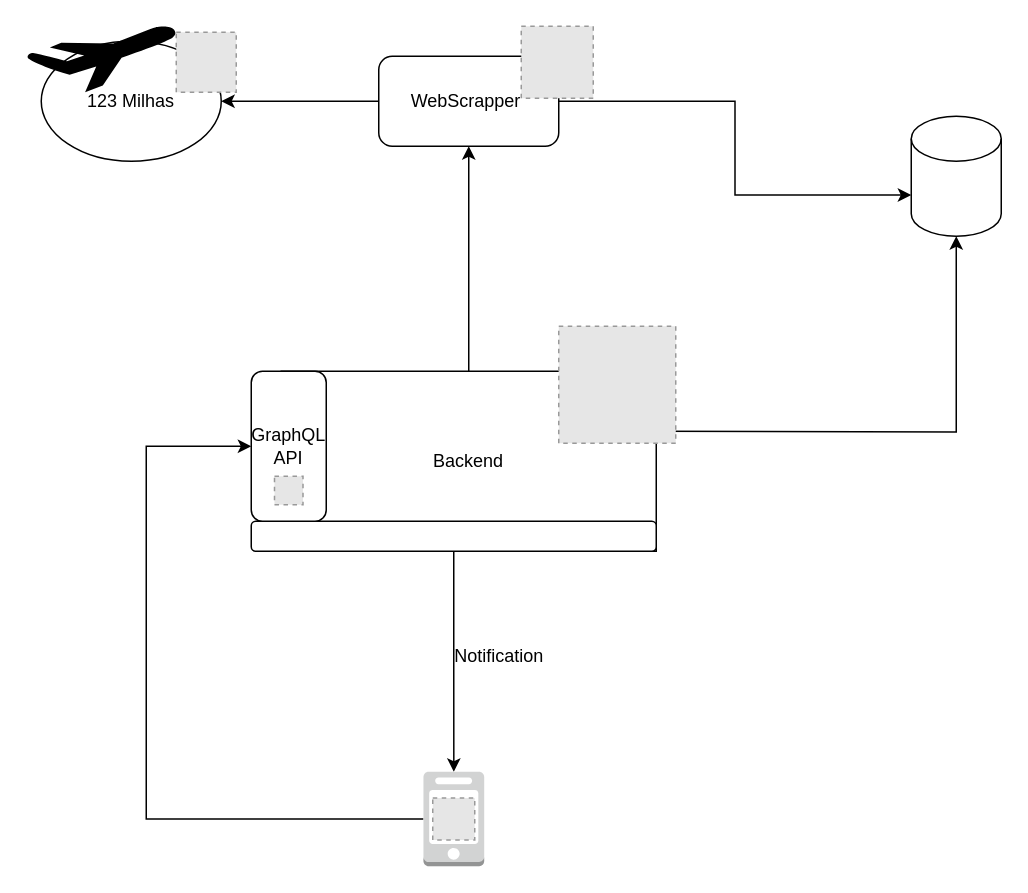
Some shapes in this 1028 by 893 pixel diagram are drawn without their labels. Grey dashed boxes stand in for pictures. The centre of each missing label's shape, as x and y in pixels:
SqlServer: (955,175)
WebSocket: (453,535)
